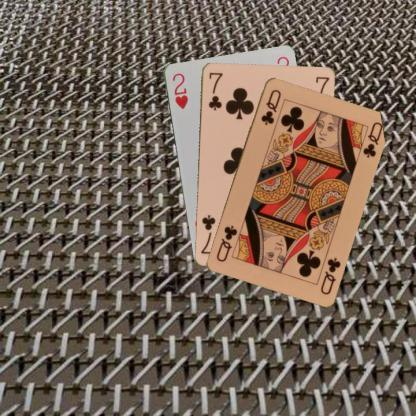2h: (169, 70, 189, 110)
7c: (206, 70, 224, 112)
Qc: (317, 254, 342, 296), (258, 86, 282, 126)
